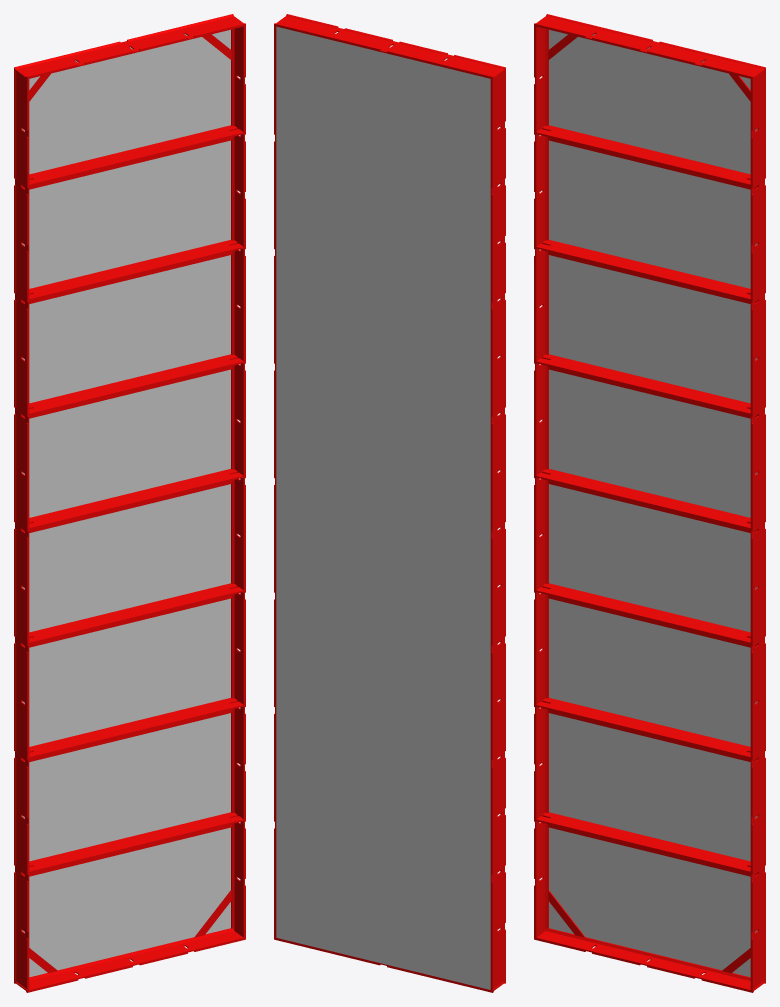
3 renders of one model, left to right at view 1: azimuth 30°, elevation 25°; view 2: azimuth 150°, elevation 25°; view 3: azimuth 330°, elevation 25°, orthographic.
Visible parts, largest first — view 1: Sp-24X8-P, Sp-24X8; view 2: Sp-24X8-P, Sp-24X8; view 3: Sp-24X8-P, Sp-24X8.
Boxes of the visible parts, x1,y1,x2,y2 form: Sp-24X8-P: [22, 29, 230, 977]; Sp-24X8: [14, 14, 245, 992]; Sp-24X8-P: [276, 26, 490, 989]; Sp-24X8: [274, 14, 505, 992]; Sp-24X8-P: [549, 29, 757, 977]; Sp-24X8: [534, 14, 765, 992].
Bounding box in the file's own units: 24 × 96 × 2.5.
